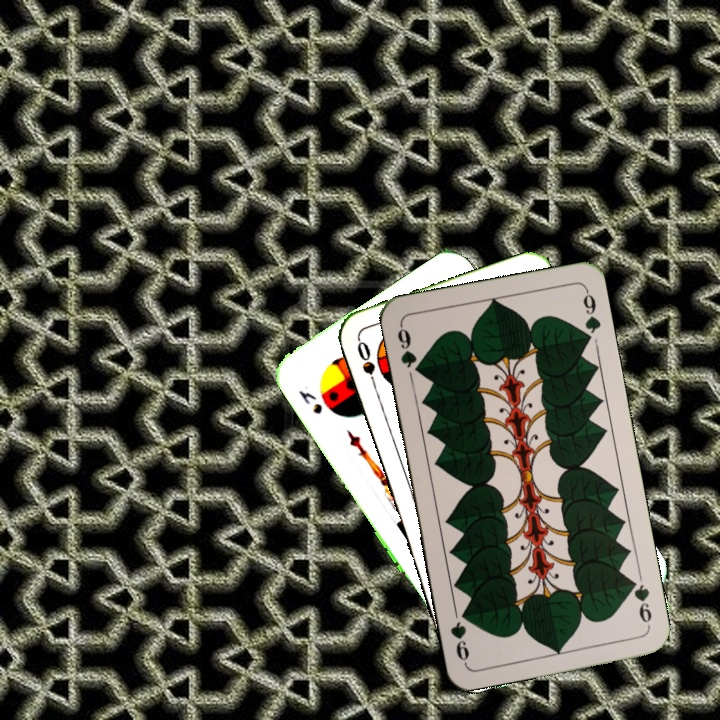G9: (393, 321, 425, 377), (625, 573, 654, 626)
SK: (294, 386, 325, 417)
SO: (353, 336, 380, 394)
